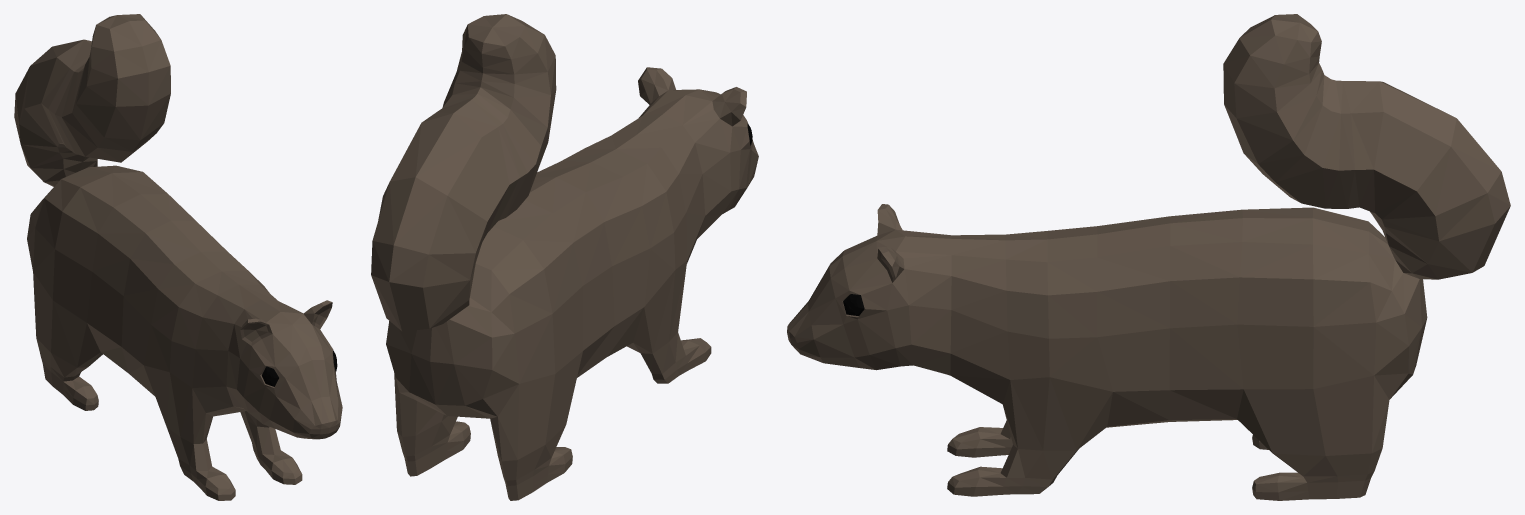
Rendered from Squirrel.fbx.
3 views of the same model, side by side, from view 1: azimuth 30°, elevation 25°; view 2: azimuth 150°, elevation 25°; view 3: azimuth 270°, elevation 25° (orthographic). The views are drawn at different scales.
Visible parts, largest first — view 1: TriangulatedSquirrel; view 2: TriangulatedSquirrel; view 3: TriangulatedSquirrel.
Part boxes in pixels (<box>): TriangulatedSquirrel: <box>14,14,342,500</box>; TriangulatedSquirrel: <box>371,14,758,500</box>; TriangulatedSquirrel: <box>787,14,1510,500</box>.
Bounding box in the file's own units: 8.02 × 24.36 × 35.47.
